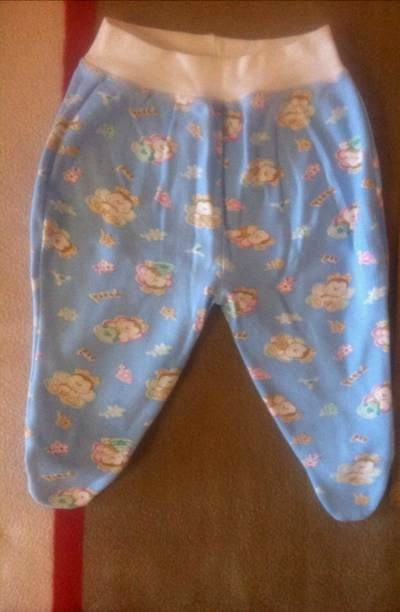Pants: (4, 20, 399, 530)
